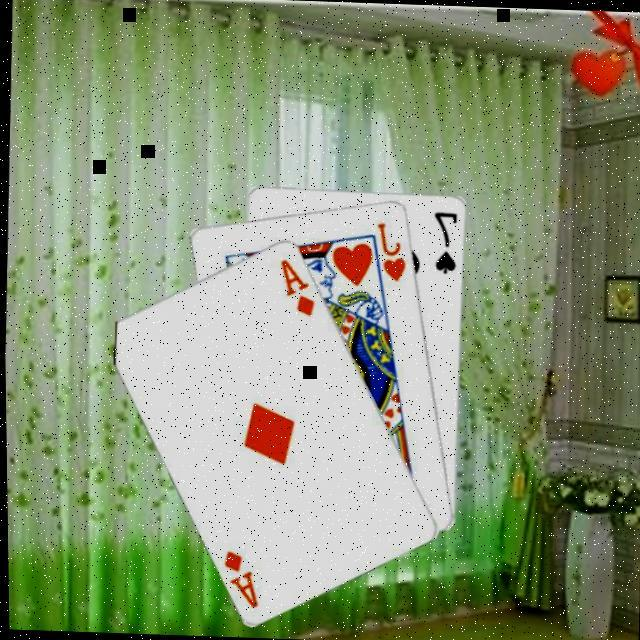7S: (430, 205, 462, 274)
AD: (274, 252, 319, 317), (217, 545, 262, 608)
JH: (372, 217, 411, 282)
